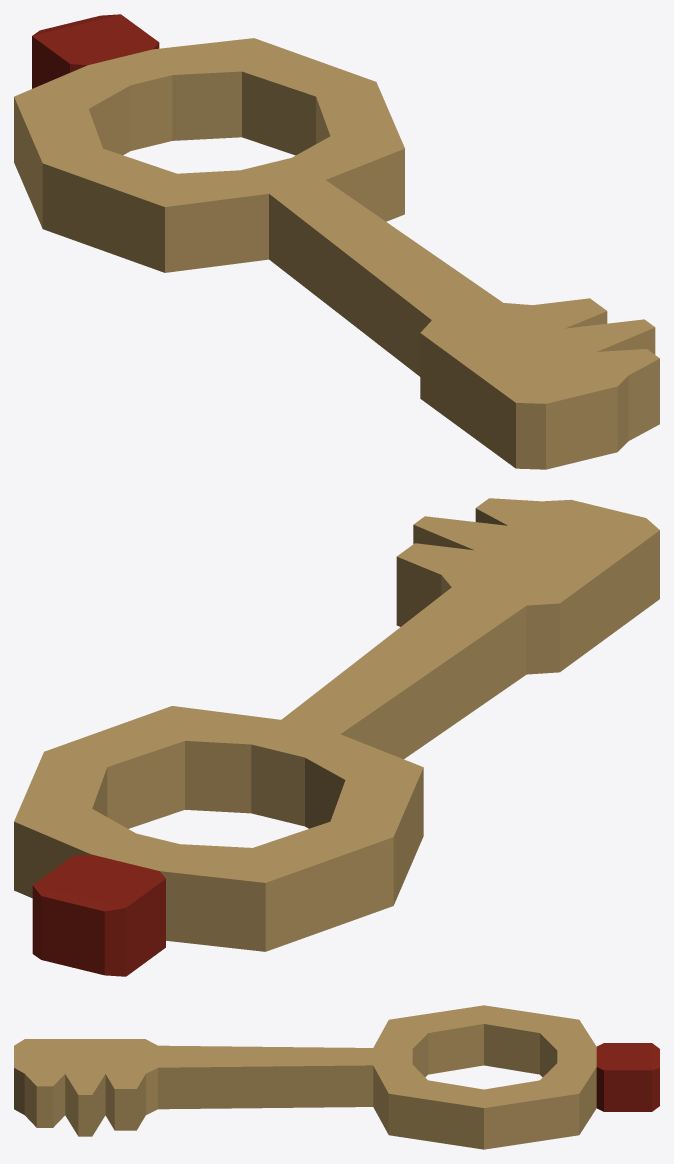
Rendered from key.gltf.
3 views of the same model, one above another, from view 1: azimuth 30°, elevation 25°; view 2: azimuth 150°, elevation 25°; view 3: azimuth 270°, elevation 25° (orthographic). The views are drawn at different scales.
Visible parts, largest first — view 1: Key_Golden; view 2: Key_Golden; view 3: Key_Golden.
Part boxes in pixels (x1,y1,x2,y2): Key_Golden: (14,14,659,469); Key_Golden: (14,498,659,976); Key_Golden: (14,1005,659,1149).
Bounding box in the file's own units: 0.1061 × 0.02 × 0.2818.
1 material, 1 textured.
